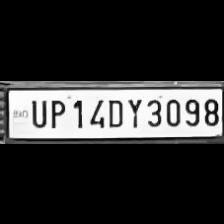0: (163, 95, 181, 125)
1: (67, 96, 85, 128)
3: (143, 95, 161, 127)
4: (85, 94, 105, 128)
8: (200, 94, 220, 126)
9: (182, 96, 200, 127)
D: (104, 95, 124, 127)
P: (46, 96, 66, 128)
U: (26, 95, 48, 127)
Y: (125, 95, 142, 127)
